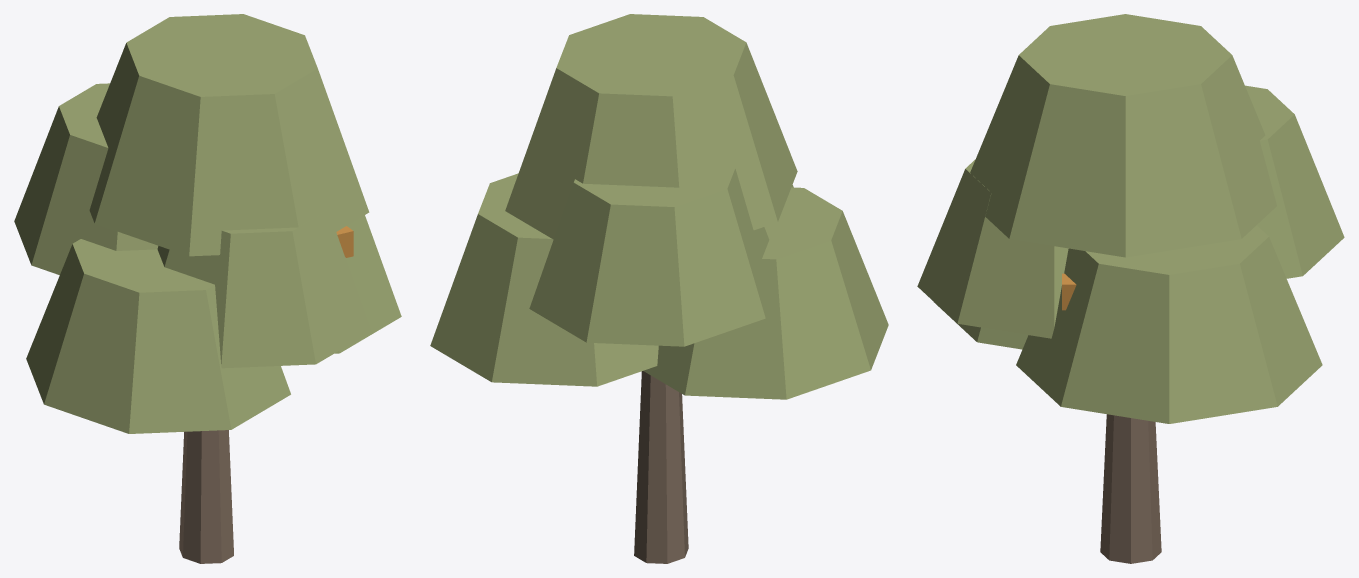
Rendered from flora_47_diospyros_kaki_cay_hong_gion_trai_mat_xuan_tho_laden_fruit_tree.glb.
3 views of the same model, side by side, from view 1: azimuth 30°, elevation 25°; view 2: azimuth 150°, elevation 25°; view 3: azimuth 270°, elevation 25° (orthographic). The views are drawn at different scales.
Visible parts, largest first — view 1: flora_47; view 2: flora_47; view 3: flora_47.
Part boxes in pixels (box(x1,y1,x2,y2)): flora_47: box(14, 14, 401, 563); flora_47: box(430, 14, 888, 563); flora_47: box(917, 14, 1344, 563).
Size of the model in its own units: 4.2 by 5.2 by 4.
